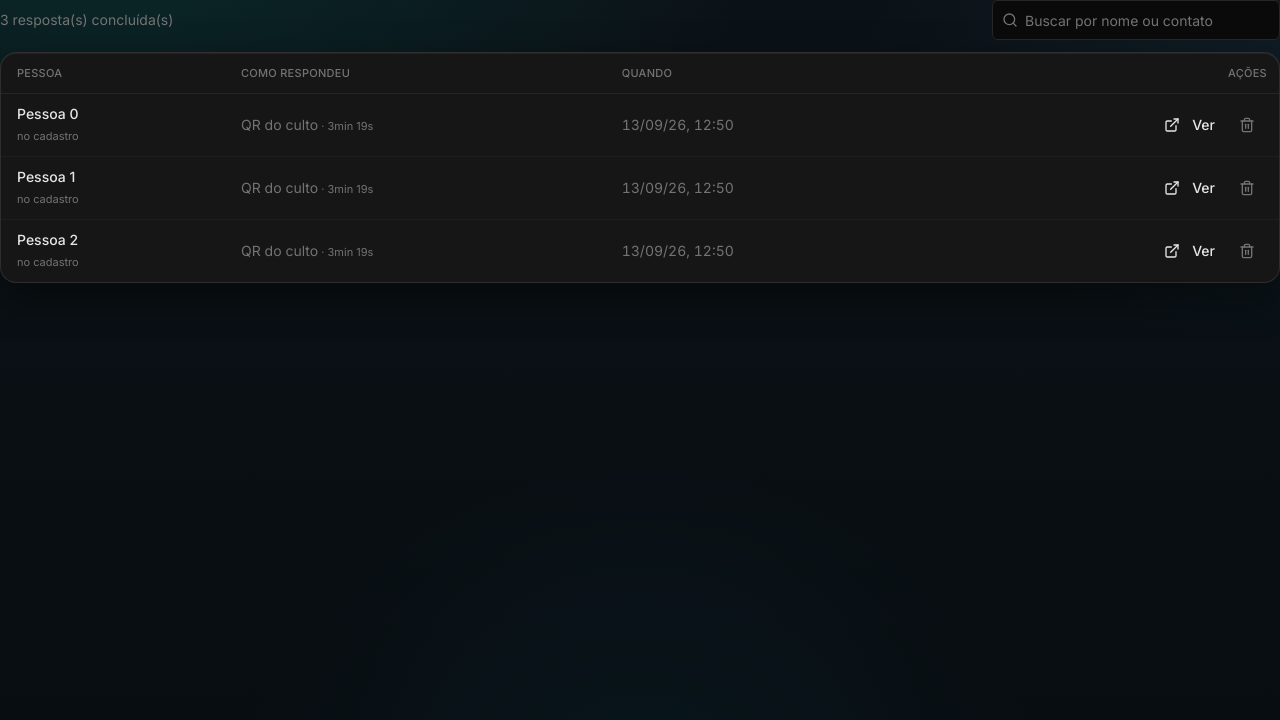
Test case: AbaRespostas · o total é do banco, a página tem 50 › o botão da linha também abre a confirmação
The width and height of the screenshot is (1280, 720).
Expected: the button "Pessoa 0" is shown, x1=17 y1=104 x2=78 y2=124
Click the 3rd button at (1247, 125), box x1=1227 y1=107 x2=1267 y2=143
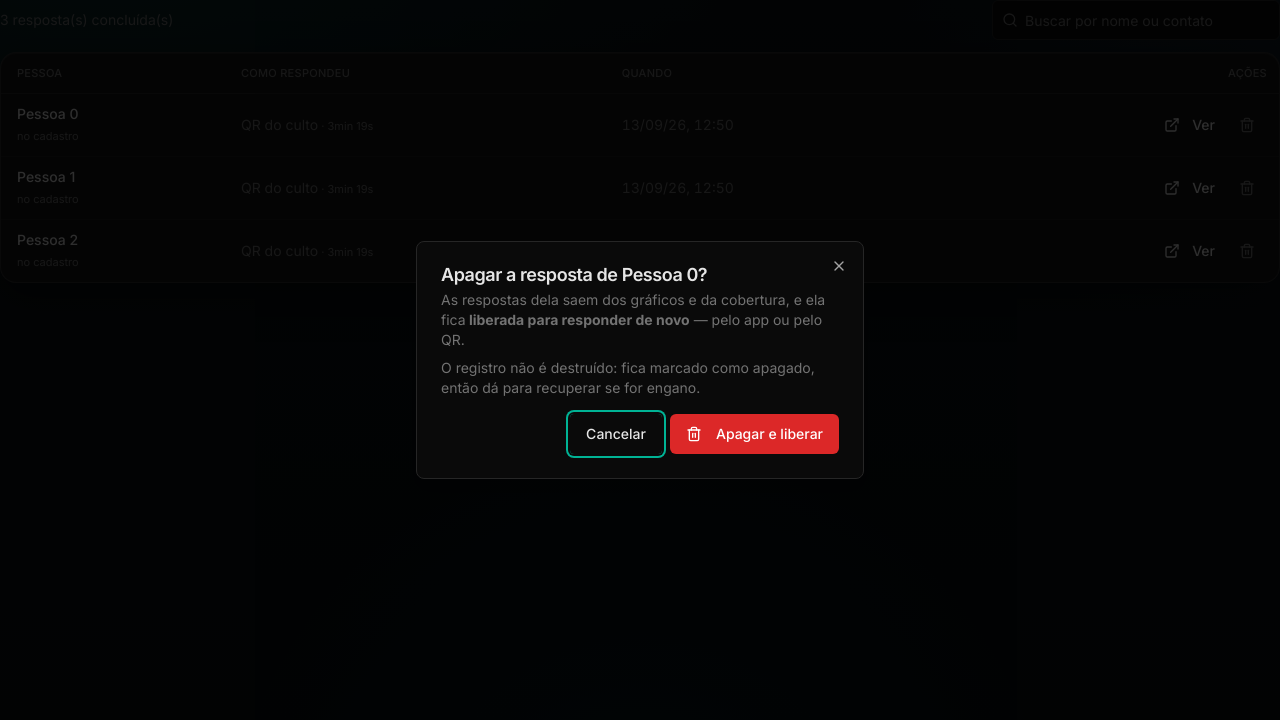
Expected: the heading "Apagar a resposta de Pessoa 0?" is shown, x1=441 y1=264 x2=707 y2=285
